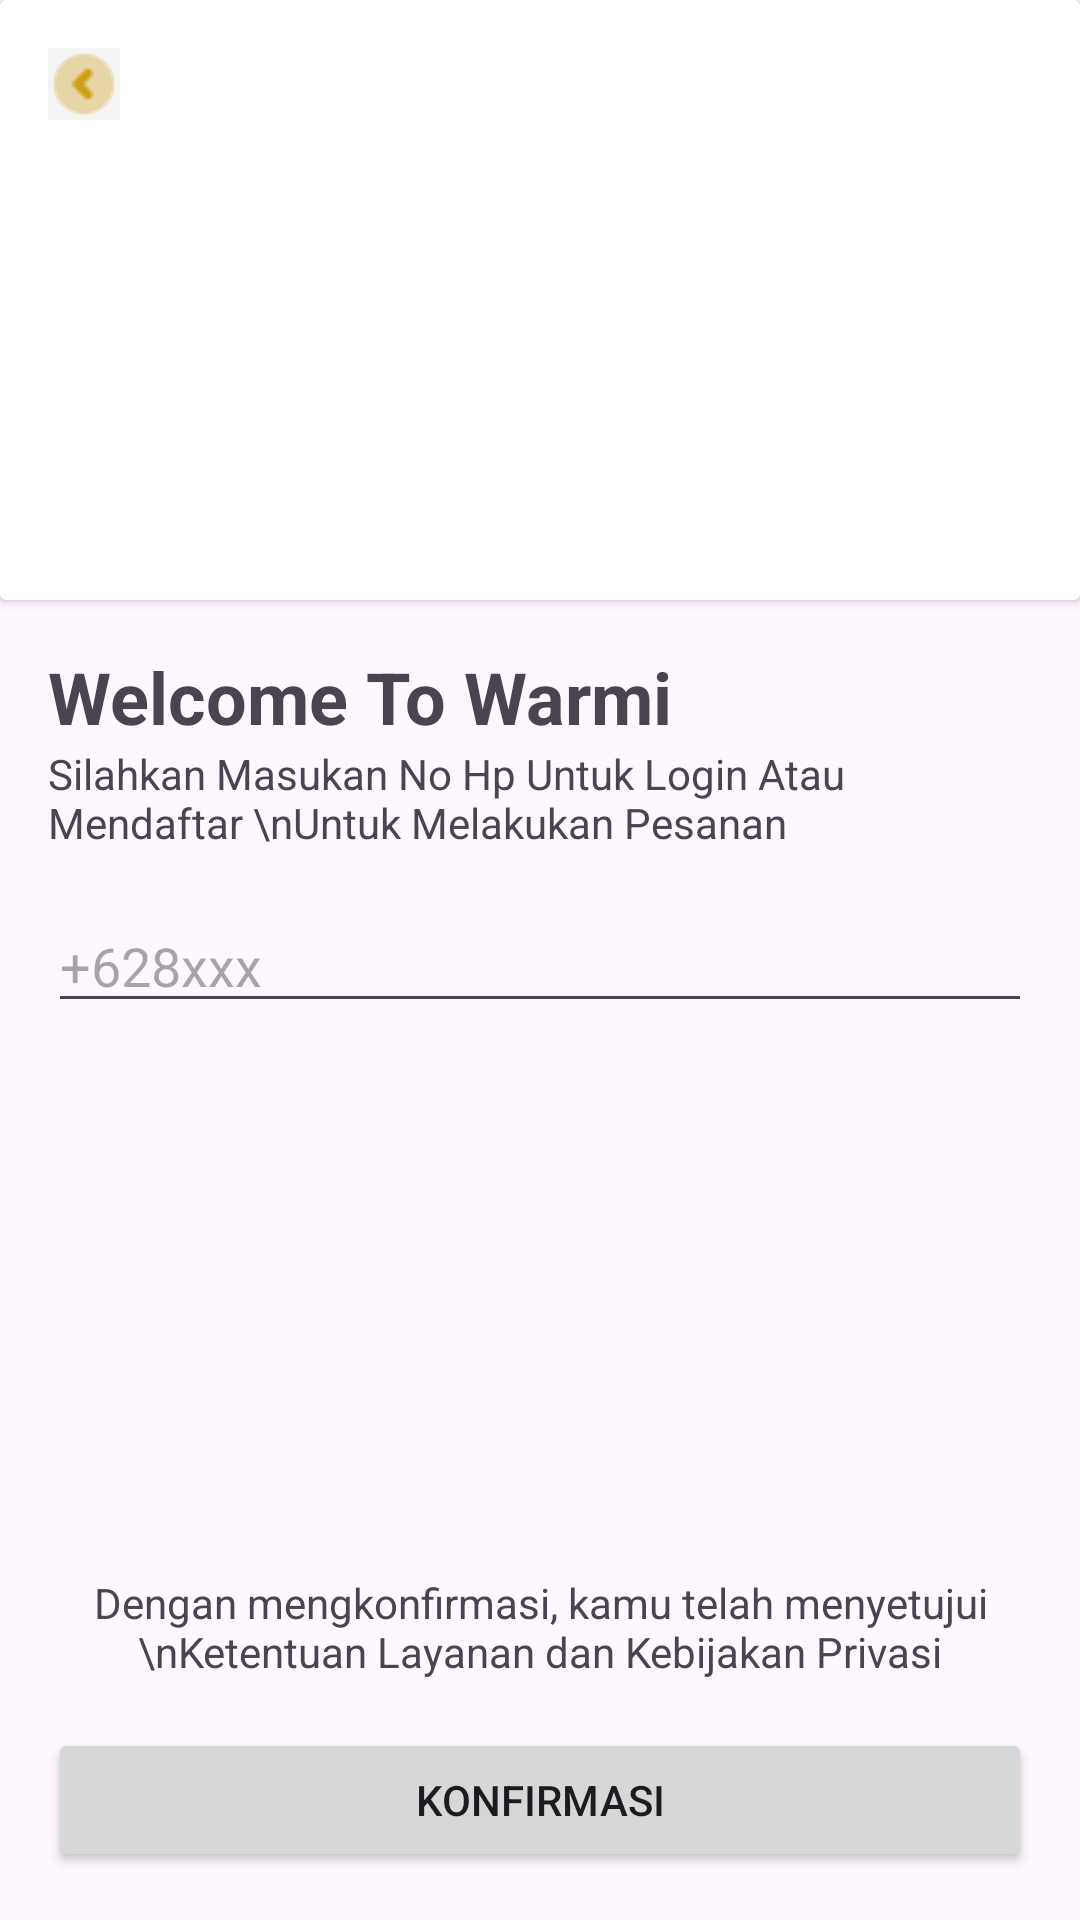

Named icons in this screenshot (1080 x 1920) and their bounding boxes, (x1, y1, x2, y2):
arrow left: (53, 53, 115, 115)
